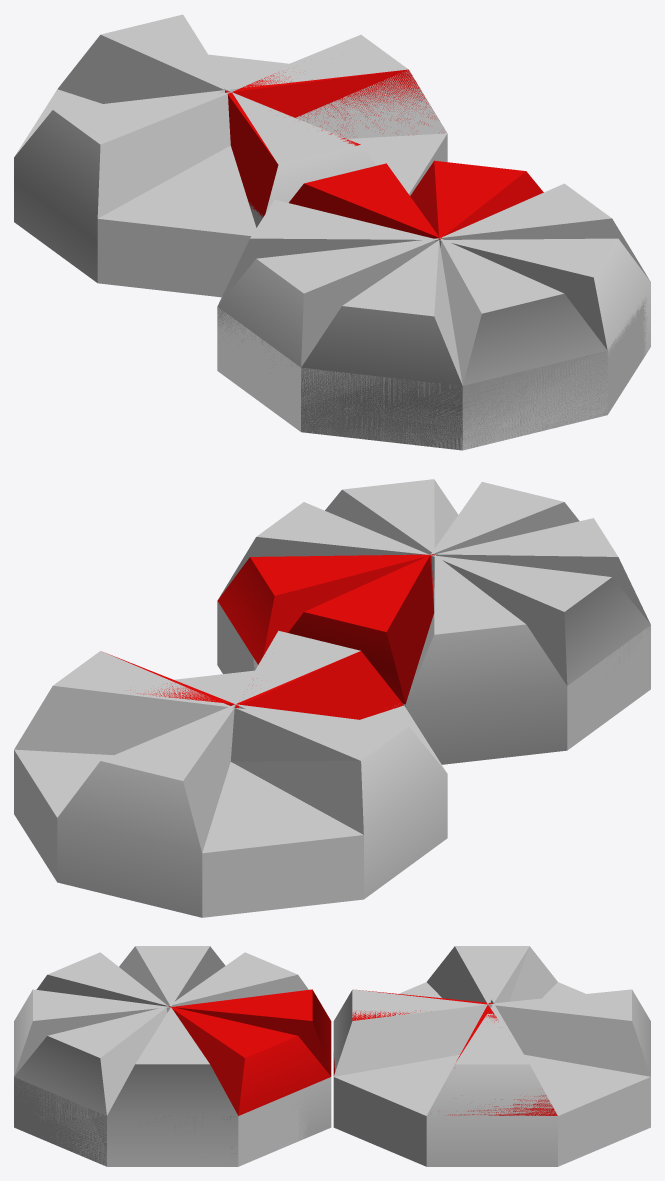
The model's file is btn_dial.FBX.
The picture shows the model from 3 angles, top to bottom: view 1: azimuth 30°, elevation 25°; view 2: azimuth 150°, elevation 25°; view 3: azimuth 270°, elevation 25°; orthographic projection. The views are drawn at different scales.
Visible parts, largest first — view 1: dial_ON, dial_OFF; view 2: dial_OFF, dial_ON; view 3: dial_OFF, dial_ON.
Part boxes in pixels (x1,y1,x2,y2): dial_ON: (14,14,650,450); dial_OFF: (14,15,650,450); dial_OFF: (14,479,650,917); dial_ON: (14,482,650,917); dial_OFF: (14,946,650,1166); dial_ON: (14,946,650,1166).
Bounding box in the file's own units: 5.3 × 1.74 × 10.63.
